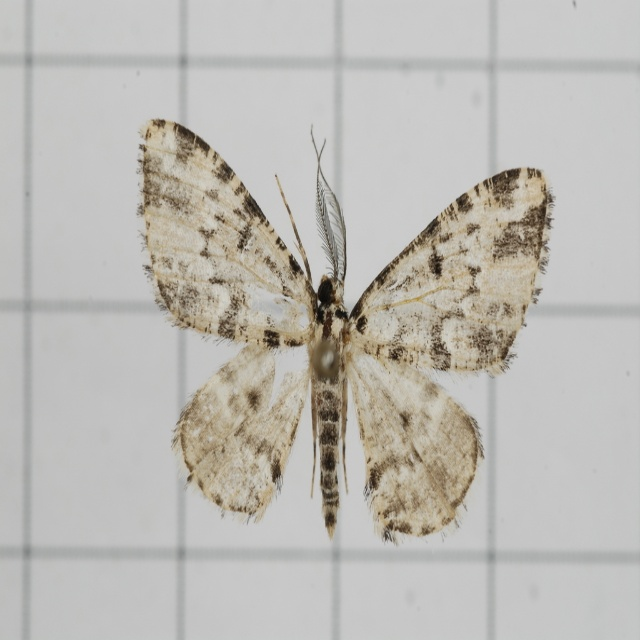Butterfly: (153, 120, 537, 570)
